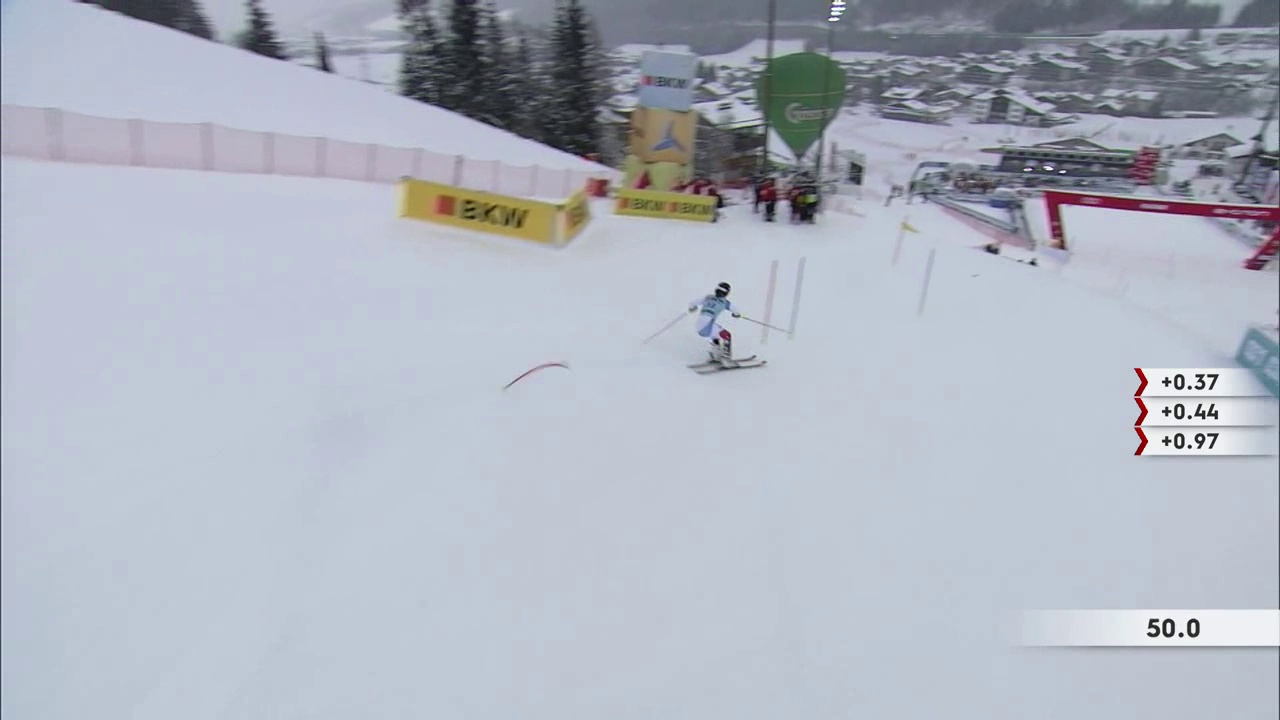goesser: (780, 101, 839, 130)
